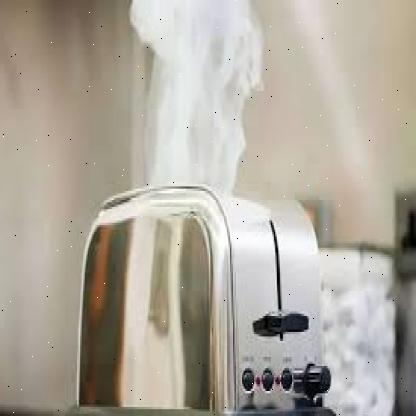smoke: (121, 0, 267, 216)
